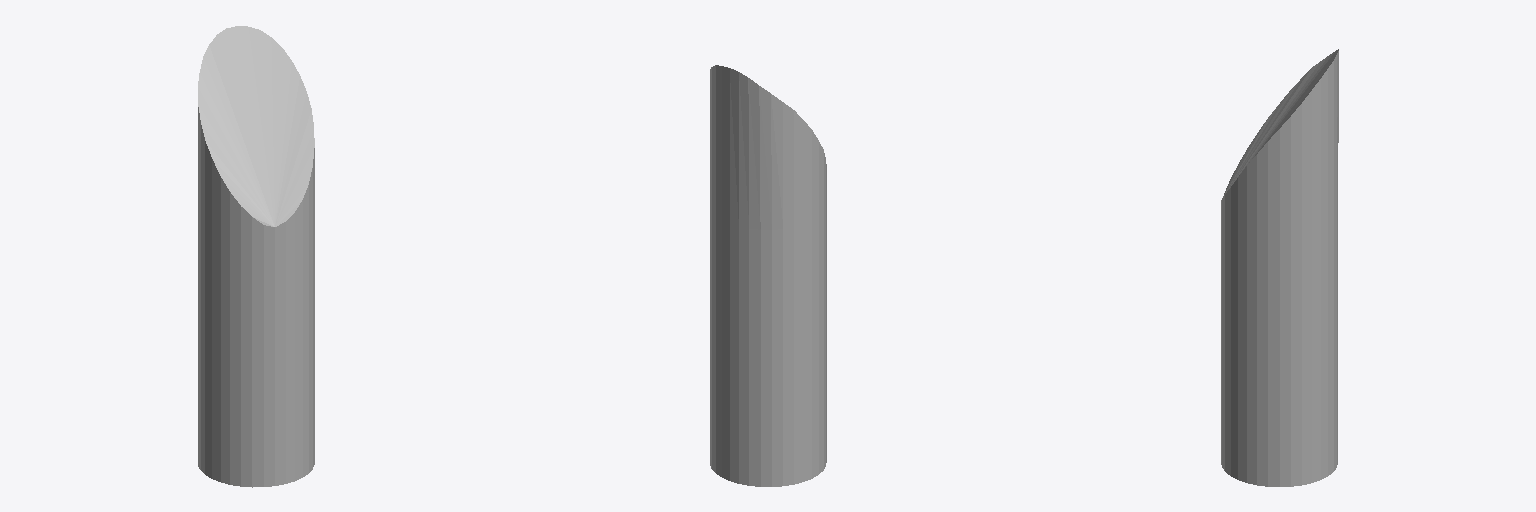
Rendered from molkky.obj.
3 renders of one model, left to right at view 1: azimuth 30°, elevation 25°; view 2: azimuth 150°, elevation 25°; view 3: azimuth 270°, elevation 25°, orthographic.
Visible parts, largest first — view 1: Cylinder.001; view 2: Cylinder.001; view 3: Cylinder.001.
Part boxes in pixels (bbox=[...]): Cylinder.001: bbox=[198, 26, 314, 487]; Cylinder.001: bbox=[710, 65, 826, 486]; Cylinder.001: bbox=[1221, 49, 1338, 486].
Bounding box in the file's own units: 0.4975 × 1.94 × 0.5011.